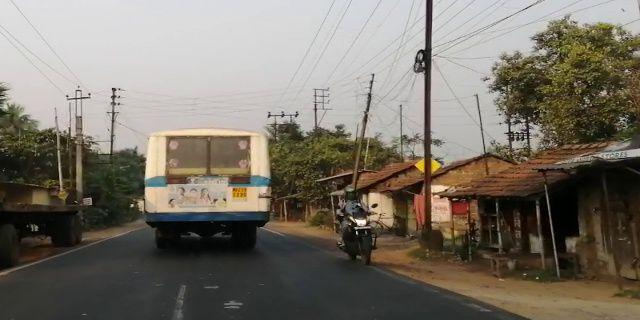Bus: (133, 124, 279, 256)
Motorbike: (331, 180, 384, 270)
